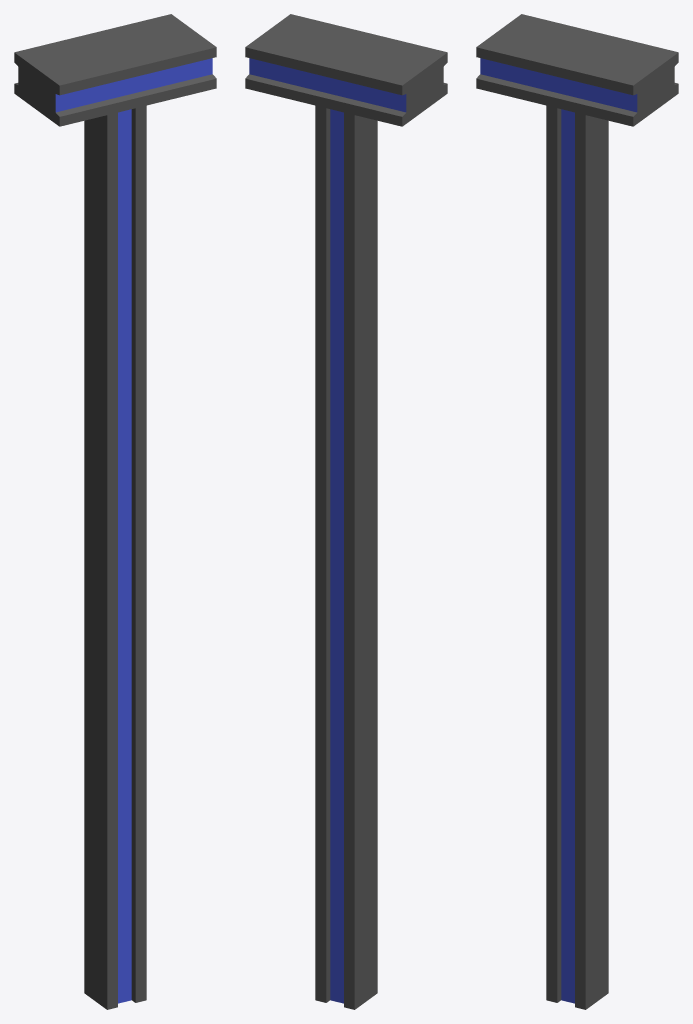
Rendered from LevelPlatform.fbx.
3 renders of one model, left to right at view 1: azimuth 30°, elevation 25°; view 2: azimuth 150°, elevation 25°; view 3: azimuth 330°, elevation 25°, orthographic.
Parts seen in each view (by area): view 1: Cube; view 2: Cube; view 3: Cube.
Boxes of the visible parts, x1=… form: Cube: x1=14, y1=14, x2=216, y2=1009; Cube: x1=245, y1=14, x2=447, y2=1009; Cube: x1=476, y1=14, x2=678, y2=1009.
Size of the model in its own units: 799 by 4600 by 400.
